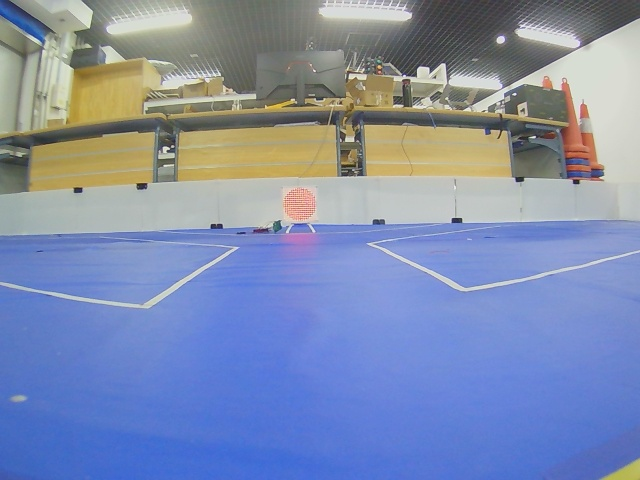red: (283, 187, 317, 223)
